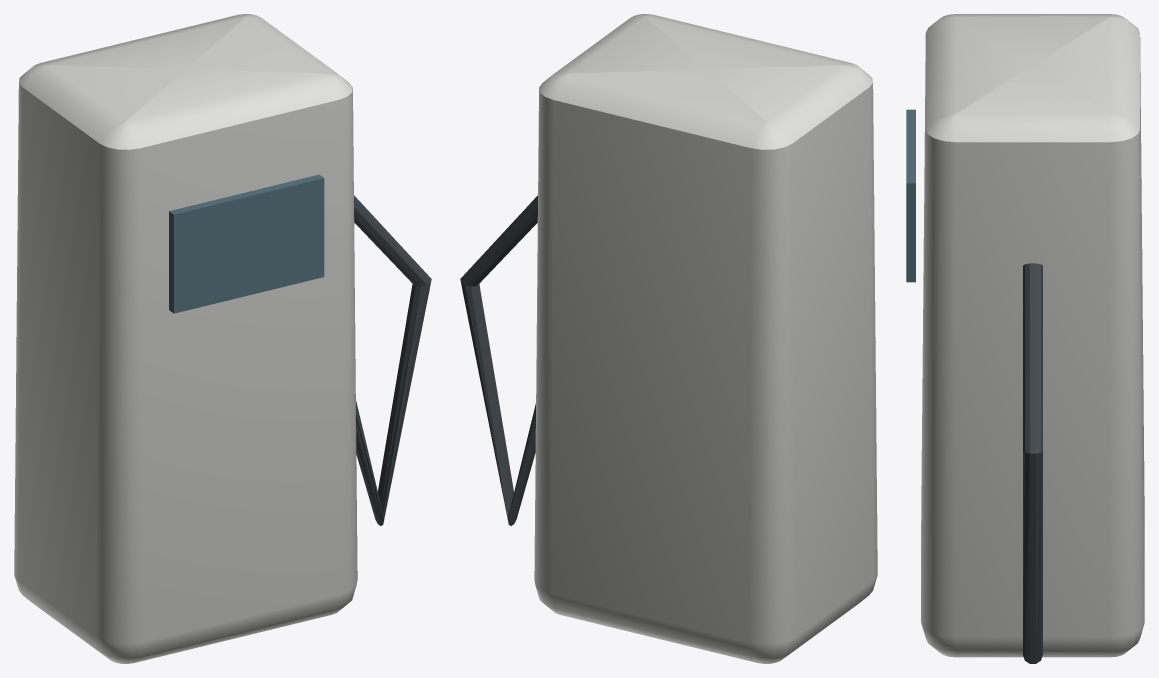
Rendered from long-haul-trucking-and-truck-stop-adblue-dispenser-33ed11c0__14007.glb.
3 views of the same model, side by side, from view 1: azimuth 30°, elevation 25°; view 2: azimuth 150°, elevation 25°; view 3: azimuth 270°, elevation 25° (orthographic).
Parts seen in each view (by area): view 1: adblue-dispenser; view 2: adblue-dispenser; view 3: adblue-dispenser.
Part boxes in pixels (x1,y1,x2,y2): adblue-dispenser: (14,14,431,663); adblue-dispenser: (460,14,877,663); adblue-dispenser: (906,14,1144,663).
Size of the model in its own units: 0.8687 by 1.2 by 0.48.
